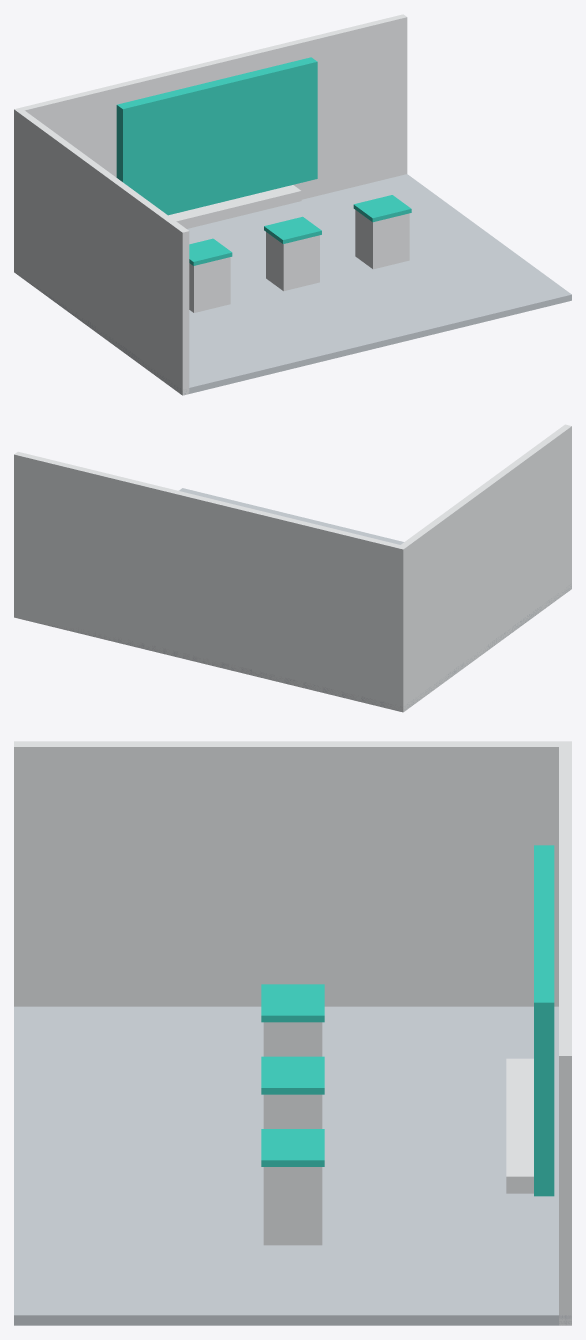
3 views of the same model, one above another, from view 1: azimuth 30°, elevation 25°; view 2: azimuth 150°, elevation 25°; view 3: azimuth 270°, elevation 25° (orthographic). The views are drawn at different scales.
Visible parts, largest first — view 1: Exhibition Booth Concept; view 2: Exhibition Booth Concept; view 3: Exhibition Booth Concept.
Part boxes in pixels (x1,y1,x2,y2): Exhibition Booth Concept: [14, 14, 571, 395]; Exhibition Booth Concept: [14, 424, 571, 712]; Exhibition Booth Concept: [14, 741, 571, 1325].
Bounding box in the file's own units: 8 × 3.2 × 6.
